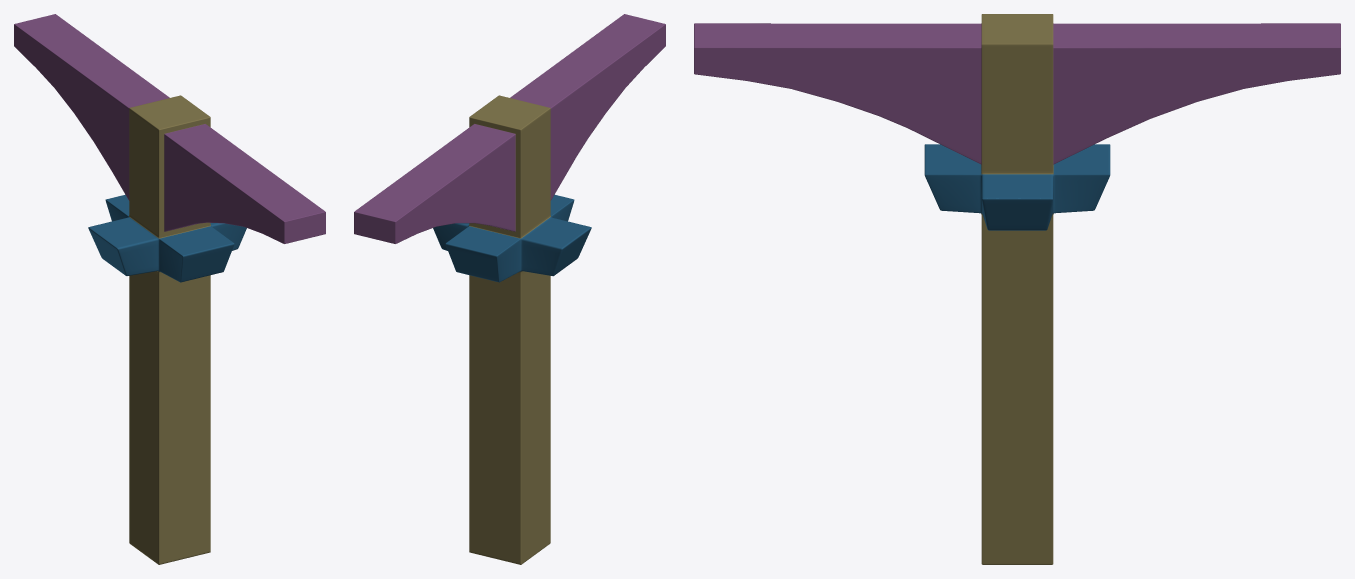
The model's file is CourtyardFoundation2.fbx.
3 renders of one model, left to right at view 1: azimuth 30°, elevation 25°; view 2: azimuth 150°, elevation 25°; view 3: azimuth 270°, elevation 25°, orthographic. The views are drawn at different scales.
Visible parts, largest first — view 1: CourtyardFoundation2_HIgh (×3); view 2: CourtyardFoundation2_HIgh (×3); view 3: CourtyardFoundation2_HIgh (×3).
Part boxes in pixels (x1,y1,x2,y2): CourtyardFoundation2_HIgh (×3): (14, 14, 325, 564); CourtyardFoundation2_HIgh (×3): (354, 14, 665, 564); CourtyardFoundation2_HIgh (×3): (694, 14, 1340, 564).
Size of the model in its own units: 2.59 by 8 by 9.
